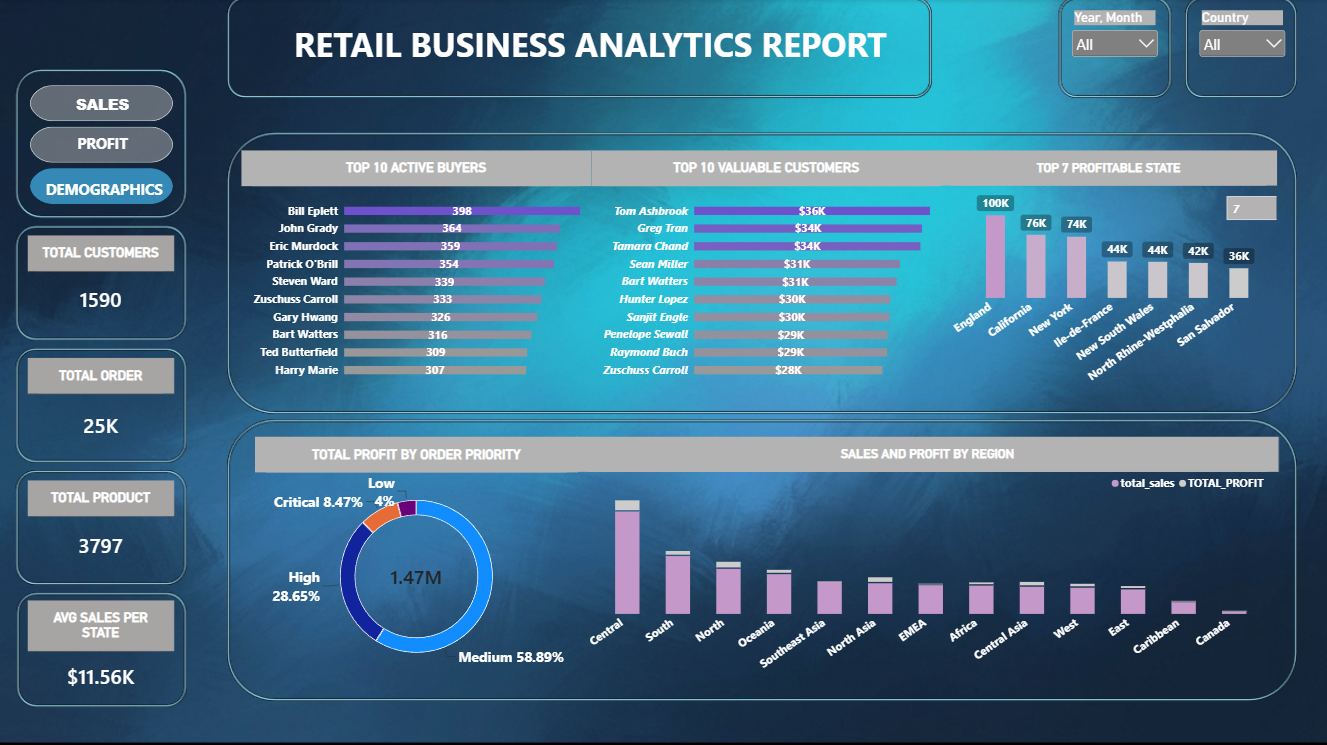

This screenshot's page, from the dashboard's own definition file:
{"tool":"powerbi","page":{"name":"DEMOGRAPHICS","canvas":[1920,1080],"ordinal":2},"visuals":[{"type":"pageNavigator","box":[43.2,125.6,207.9,172.9],"z":0,"group":"g1"},{"type":"card","title":"TOTAL CUSTOMERS","fields":{"Values":["calculate_table.TOTAL_CUSTOMERS"]},"box":[39.8,342,211.7,132.1],"z":0},{"type":"textbox","box":[102.9,138.5,90.5,36.8],"z":1000,"group":"g1"},{"type":"card","title":"TOTAL ORDER","fields":{"Values":["calculate_table.TOTAL_ORDERS"]},"box":[39.8,519.4,211.7,141.2],"z":1000},{"type":"textbox","box":[102.9,193.7,90.5,36.8],"z":2000,"group":"g1"},{"type":"card","title":"TOTAL PRODUCT","fields":{"Values":["calculate_table.TOTAL_PRODUCT"]},"box":[39.8,696.7,211.7,135.7],"z":2000},{"type":"textbox","box":[50.9,261.7,200.2,36.8],"z":3000,"group":"g1"},{"type":"card","title":"AVG SALES PER STATE","fields":{"Values":["calculate_table.AVG_SALES_PER_STATE"]},"box":[39.8,870.4,211.7,146.6],"z":3000},{"type":"clusteredBarChart","title":"TOP 10 ACTIVE BUYERS","fields":{"Category":["customer_table.Customer Name"],"Y":["calculate_table.TOTAL_QTY"]},"box":[349.9,218.2,506.3,362.3],"z":4000},{"type":"donutChart","title":"TOTAL PROFIT BY ORDER PRIORITY","fields":{"Category":["sales_table.Order Priority"],"Y":["calculate_table.TOTAL_PROFIT"]},"box":[368.4,634,467.2,368.4],"z":5000},{"type":"clusteredColumnChart","fields":{"Category":["location_table.State"],"Y":["calculate_table.top_profitable_var"]},"box":[1360.6,218.2,487.8,366.4],"z":6000},{"type":"slicer","fields":{"Values":["DATETABLE.Date.Variation.Date Hierarchy.Year","DATETABLE.Date.Variation.Date Hierarchy.Month"]},"box":[1547.9,16.5,133.8,100.9],"z":7000},{"type":"slicer","fields":{"Values":["location_table.Country"]},"box":[1731.1,16.5,133.8,100.9],"z":8000},{"type":"textbox","box":[424,32.9,862.4,67.9],"z":9000},{"type":"group","id":"g1","title":"Group 1","box":[43.2,125.6,207.9,172.9],"z":10000},{"type":"clusteredBarChart","title":"TOP 10 VALUABLE CUSTOMERS","fields":{"Category":["customer_table.Customer Name"],"Y":["calculate_table.total_sales"]},"box":[856.3,218.2,506.3,362.3],"z":11000},{"type":"columnChart","title":"SALES AND PROFIT BY REGION","fields":{"Category":["location_table.Region"],"Y":["calculate_table.total_sales","calculate_table.TOTAL_PROFIT"]},"box":[833.6,634,1016.8,368.4],"z":12000},{"type":"slicer","fields":{"Values":["top_rank_no.top_rank_no"]},"box":[1768.1,279.9,80.3,80.3],"z":13000}]}

Visuals, with their boxes in screenshot pixels (x1, y1, x2, y2), scaled from the page's 1920x1080 canvas onto the 1327x745 screenshot:
pageNavigator: <box>30,87,174,206</box>
"TOTAL CUSTOMERS" card: <box>28,236,174,327</box>
textbox: <box>71,96,134,121</box>
"TOTAL ORDER" card: <box>28,358,174,456</box>
textbox: <box>71,134,134,159</box>
"TOTAL PRODUCT" card: <box>28,481,174,574</box>
textbox: <box>35,181,174,206</box>
"AVG SALES PER STATE" card: <box>28,600,174,702</box>
"TOP 10 ACTIVE BUYERS" clusteredBarChart: <box>242,151,592,400</box>
"TOTAL PROFIT BY ORDER PRIORITY" donutChart: <box>255,437,578,691</box>
clusteredColumnChart - location_table.State x calculate_table.top_profitable_var: <box>940,151,1278,403</box>
slicer - DATETABLE.Date.Variation.Date Hierarchy.Year x DATETABLE.Date.Variation.Date Hierarchy.Month: <box>1070,11,1162,81</box>
slicer - location_table.Country: <box>1196,11,1289,81</box>
textbox: <box>293,23,889,70</box>
"Group 1" group: <box>30,87,174,206</box>
"TOP 10 VALUABLE CUSTOMERS" clusteredBarChart: <box>592,151,942,400</box>
"SALES AND PROFIT BY REGION" columnChart: <box>576,437,1279,691</box>
slicer - top_rank_no.top_rank_no: <box>1222,193,1278,248</box>
